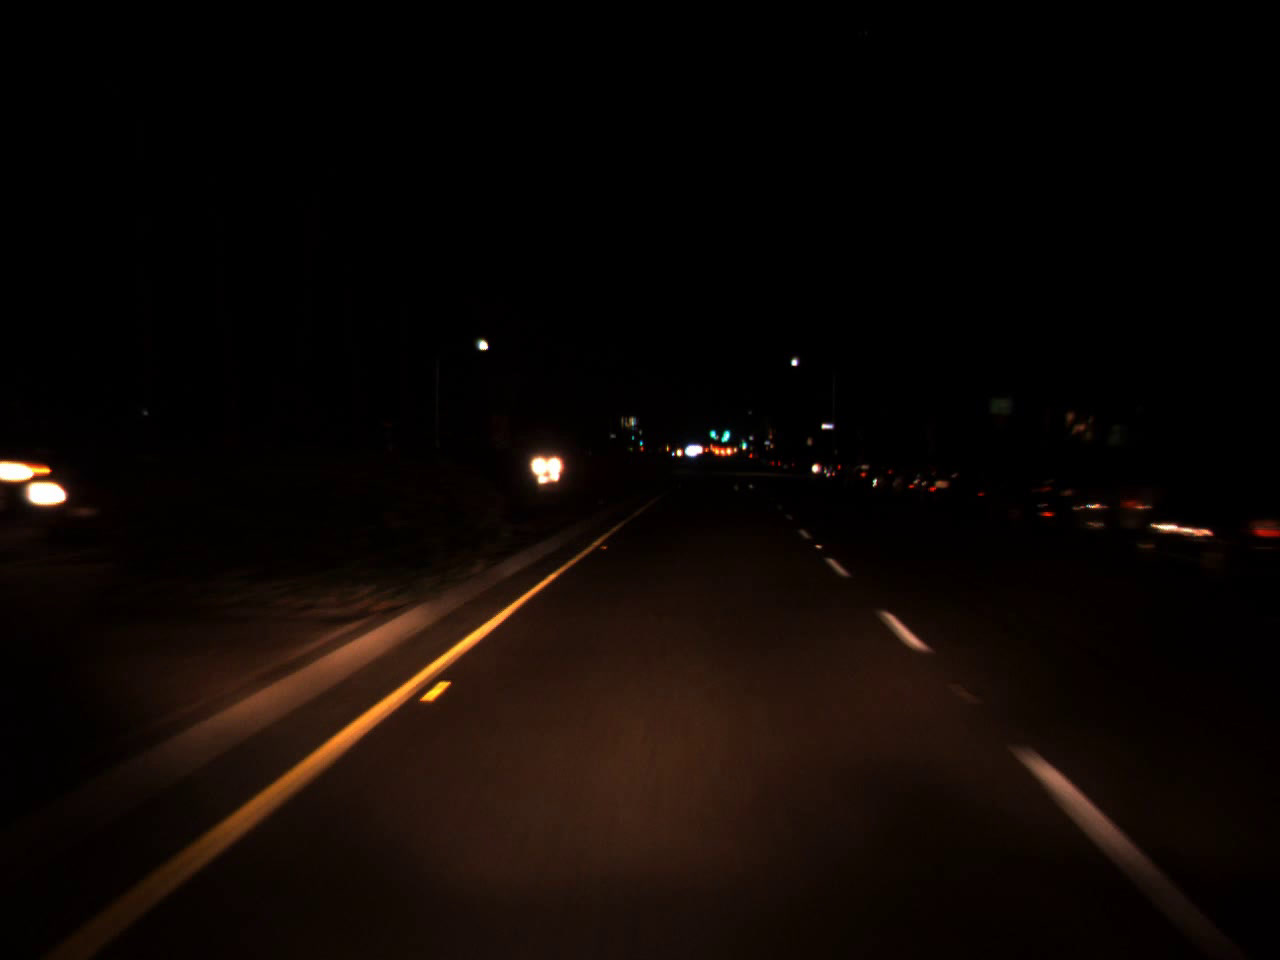go: (718, 417, 730, 447), (707, 419, 717, 443), (739, 433, 748, 448)
